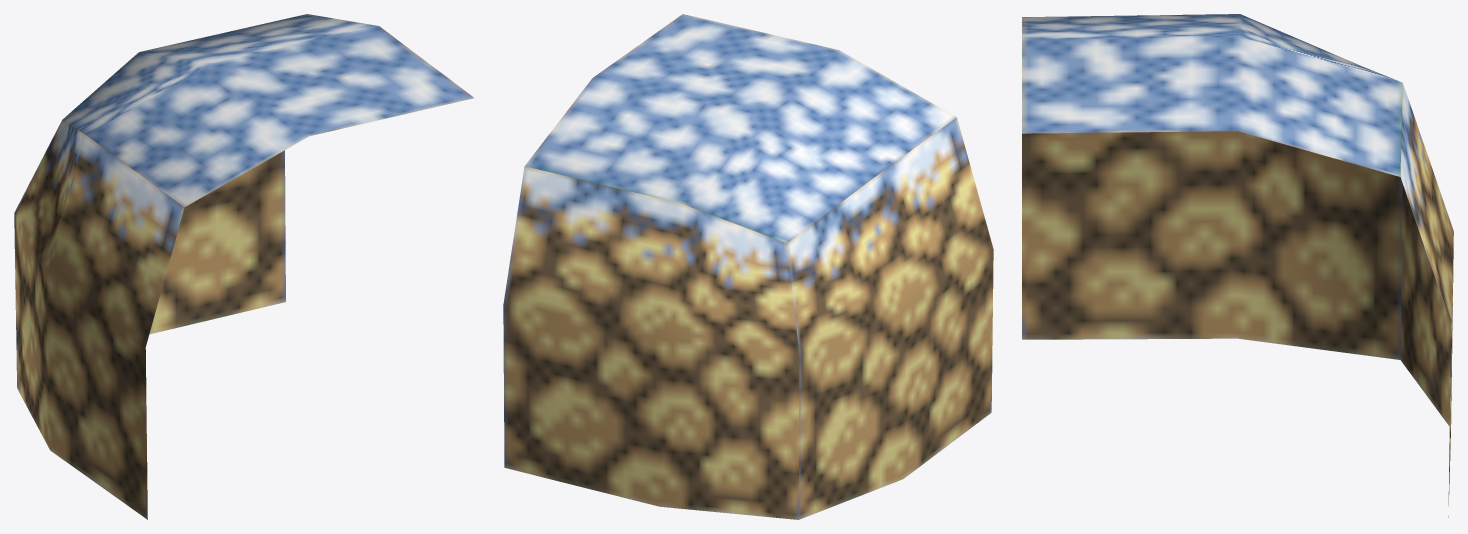
File: snowDTile_groundCorner_upperLeft.fbx
The picture shows the model from 3 angles, left to right: view 1: azimuth 30°, elevation 25°; view 2: azimuth 150°, elevation 25°; view 3: azimuth 270°, elevation 25°; orthographic projection. The views are drawn at different scales.
Visible parts, largest first — view 1: snowDTile_groundCorner_upperLeft; view 2: snowDTile_groundCorner_upperLeft; view 3: snowDTile_groundCorner_upperLeft.
Boxes of the visible parts, box(x1,y1,x2,y2) form: snowDTile_groundCorner_upperLeft: box(14, 14, 474, 519); snowDTile_groundCorner_upperLeft: box(503, 14, 993, 519); snowDTile_groundCorner_upperLeft: box(1022, 14, 1453, 517).
Bounding box in the file's own units: 1.01 × 1.01 × 1.01.
